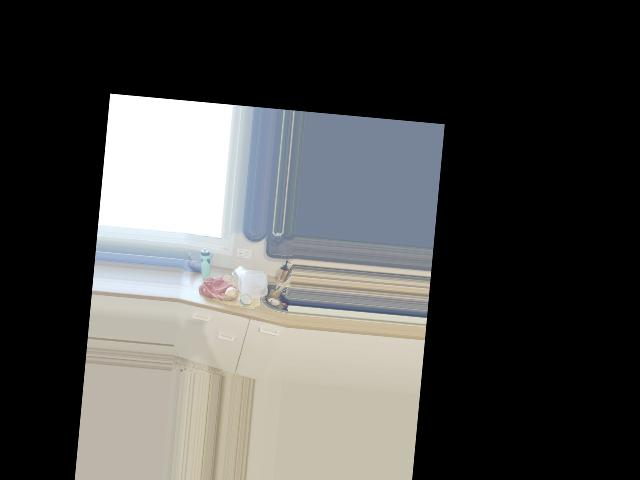onion: (220, 285, 237, 304)
